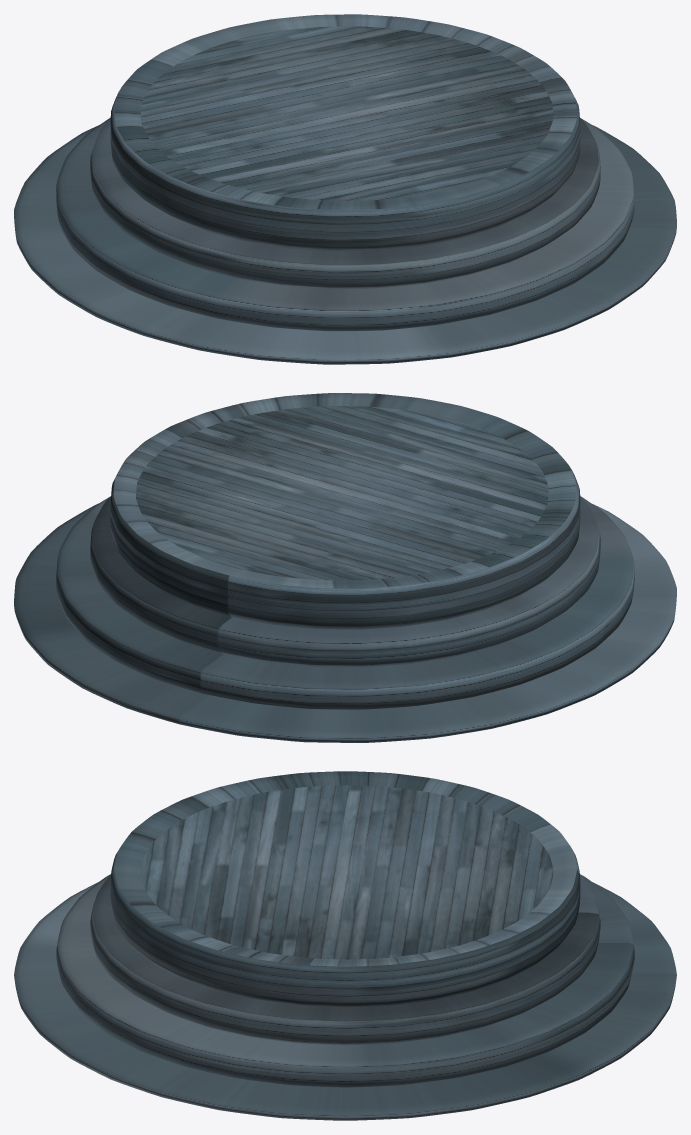
File: Stage 2.fbx
3 renders of one model, top to bottom at view 1: azimuth 30°, elevation 25°; view 2: azimuth 150°, elevation 25°; view 3: azimuth 270°, elevation 25°, orthographic.
Parts seen in each view (by area): view 1: Cylinder; view 2: Cylinder; view 3: Cylinder.
Part boxes in pixels (box(x1,y1,x2,y2)): Cylinder: box(14, 14, 676, 364); Cylinder: box(14, 393, 676, 742); Cylinder: box(14, 771, 676, 1120).
Bounding box in the file's own units: 985 × 196 × 985.
1 material, 1 textured.
